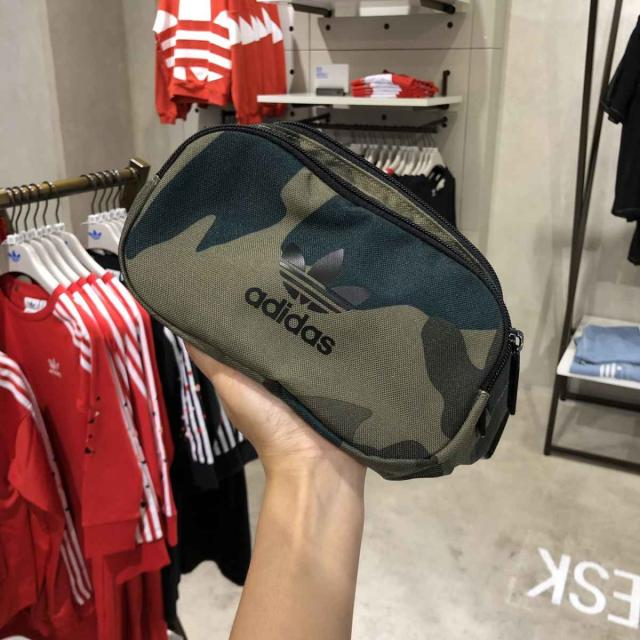Handbag: (118, 120, 521, 480)
